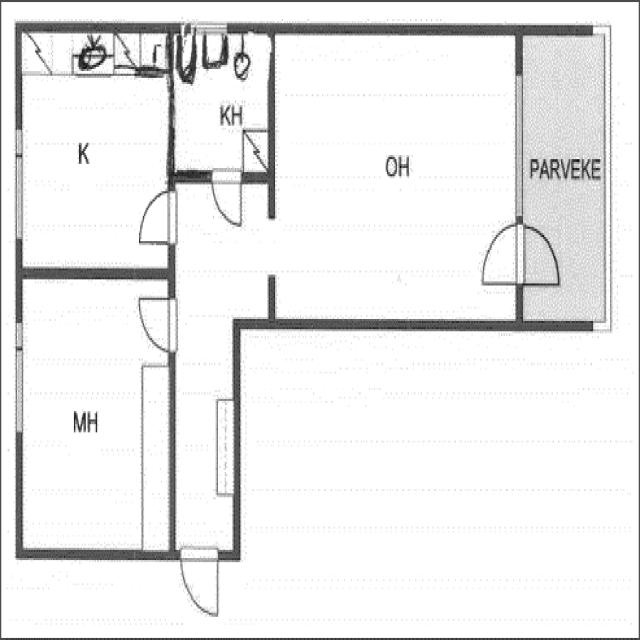door: (20, 273, 173, 558), (477, 217, 525, 290), (178, 542, 222, 621), (519, 215, 563, 292), (136, 186, 178, 248), (208, 167, 245, 233)
window: (510, 62, 530, 222), (10, 134, 28, 246), (10, 326, 28, 436), (184, 16, 231, 36)
zone: (274, 19, 524, 327), (20, 46, 172, 281), (172, 24, 272, 175), (133, 292, 178, 354)
